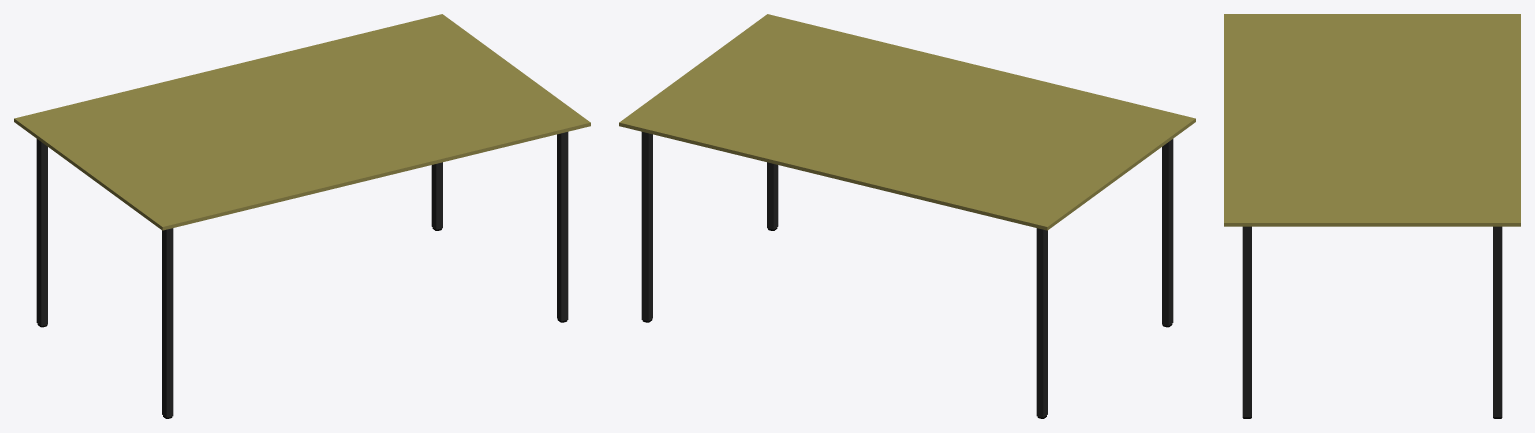
File: Table.fbx
3 views of the same model, side by side, from view 1: azimuth 30°, elevation 25°; view 2: azimuth 150°, elevation 25°; view 3: azimuth 270°, elevation 25° (orthographic).
Parts seen in each view (by area): view 1: Cube; view 2: Cube; view 3: Cube.
Part boxes in pixels (left/top/right/bottom): Cube: left=14, top=14, right=590, bottom=418; Cube: left=619, top=14, right=1195, bottom=418; Cube: left=1224, top=14, right=1520, bottom=418.
Bounding box in the file's own units: 250 × 113 × 150.
